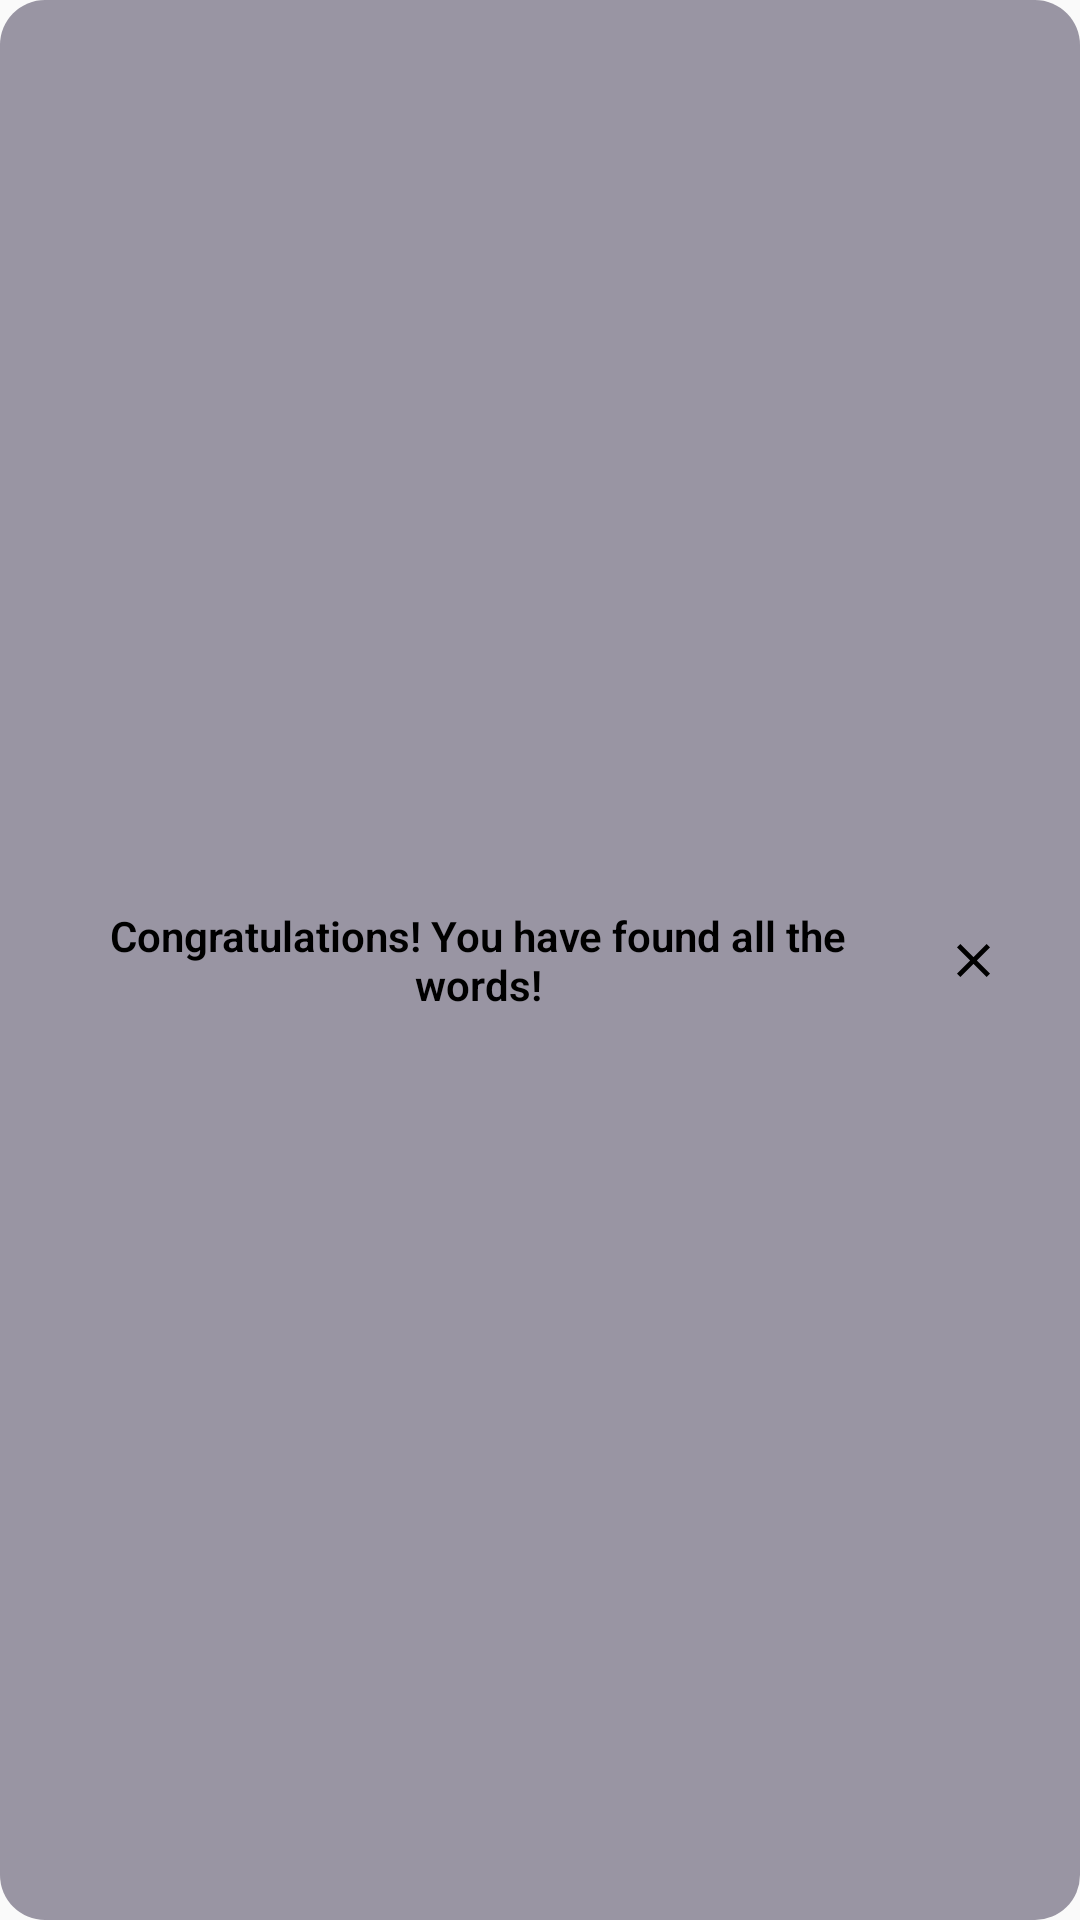

Where icons sit on this 1080px×1920px app screen, as box(x1, y1, x2, y2):
close: box(957, 944, 990, 977)
